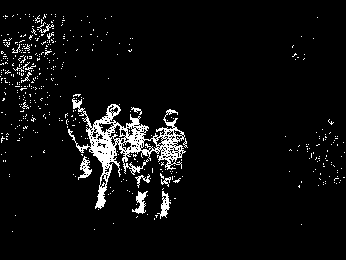person: (151, 107, 189, 218), (87, 102, 123, 210), (121, 105, 153, 215), (64, 93, 94, 179)
